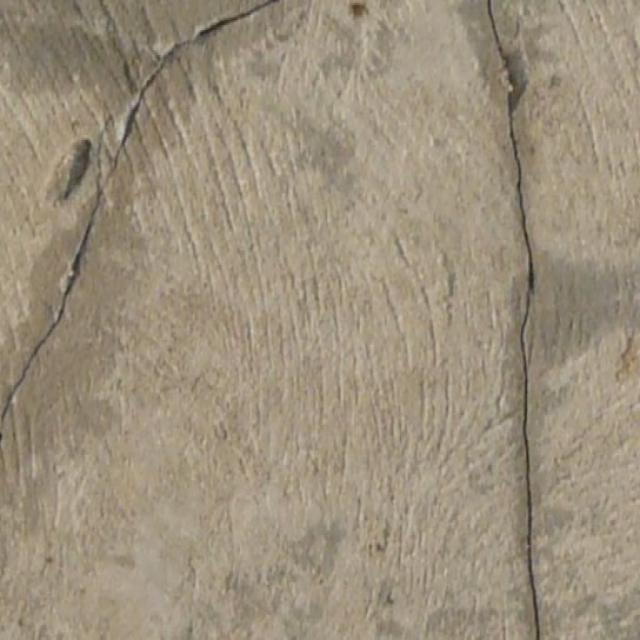crack: (0, 0, 280, 435), (484, 2, 546, 638)
